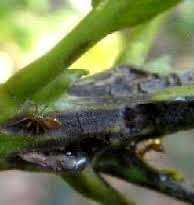Helopeltis-insect: (15, 148, 83, 169), (29, 107, 64, 130)
